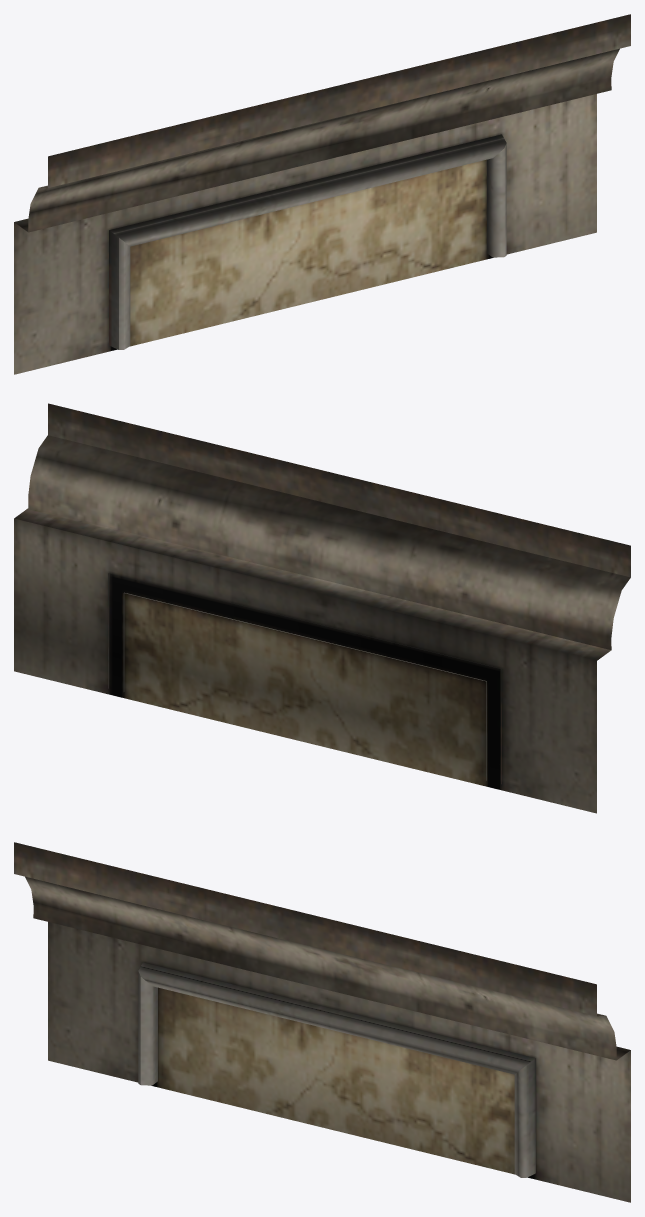
File: short_doortop.DAE
3 renders of one model, top to bottom at view 1: azimuth 30°, elevation 25°; view 2: azimuth 150°, elevation 25°; view 3: azimuth 330°, elevation 25°, orthographic.
Visible parts, largest first — view 1: mansionbase_short001; view 2: mansionbase_short001; view 3: mansionbase_short001.
Part boxes in pixels (x1,y1,x2,y2): mansionbase_short001: [14, 14, 630, 374]; mansionbase_short001: [14, 403, 630, 813]; mansionbase_short001: [14, 842, 630, 1202].
Bounding box in the file's own units: 2 × 0.7971 × 0.2045.
